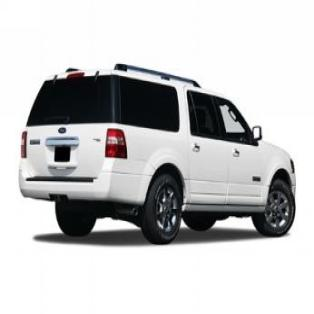Auto: (19, 63, 298, 245)
